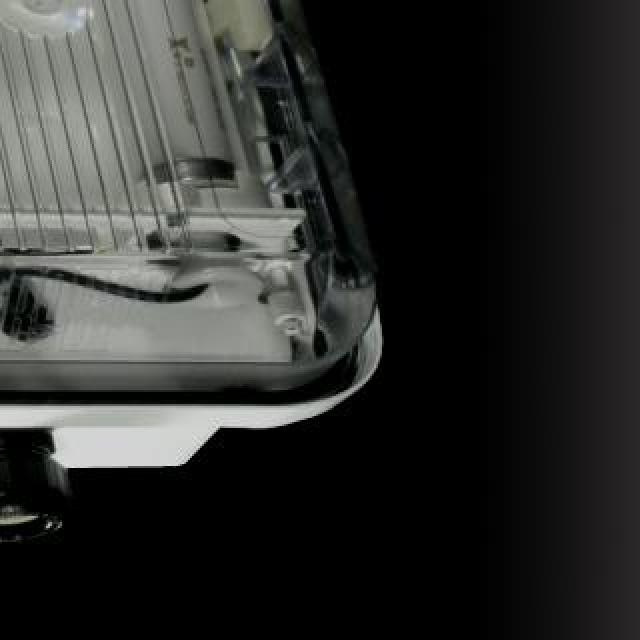fluorescent tube: (0, 0, 252, 268)
